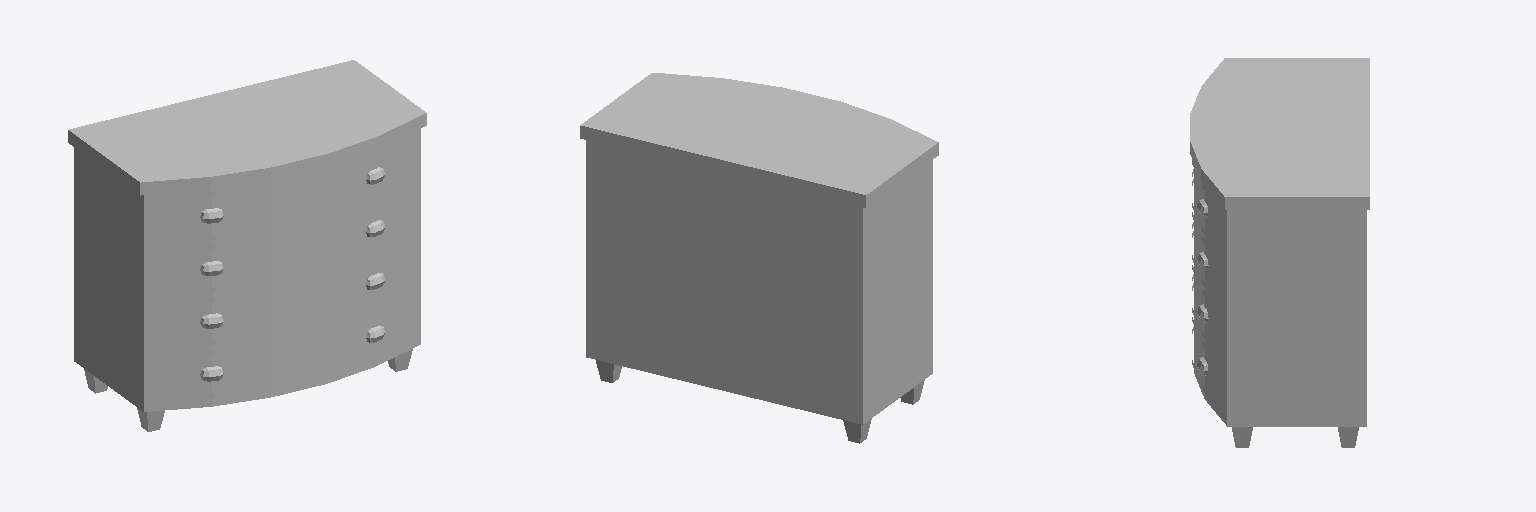
The model's file is dresser_001.obj.
The picture shows the model from 3 angles: view 1: azimuth 30°, elevation 25°; view 2: azimuth 150°, elevation 25°; view 3: azimuth 270°, elevation 25°; orthographic projection.
Visible parts, largest first — view 1: dresser_001; view 2: dresser_001; view 3: dresser_001.
Boxes of the visible parts, box(x1,y1,x2,y2) form: dresser_001: box(68, 60, 426, 431); dresser_001: box(580, 73, 938, 443); dresser_001: box(1190, 58, 1369, 447).
Bounding box in the file's own units: 1.19 × 1.02 × 0.6447.